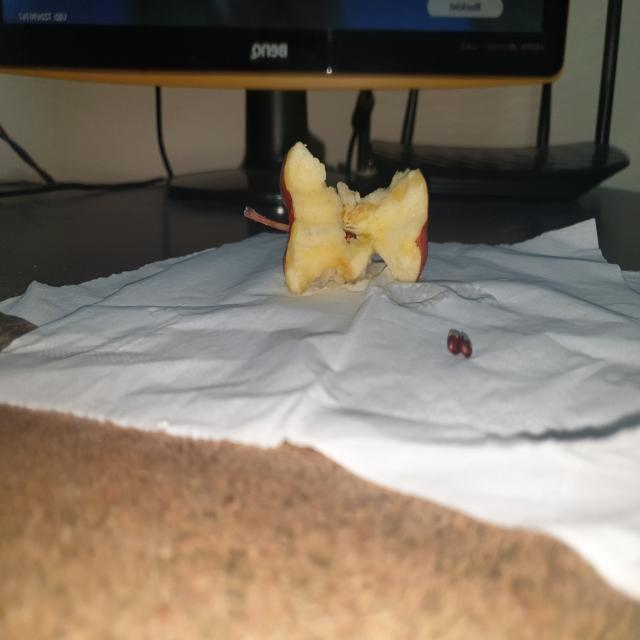apple: (238, 130, 434, 303)
